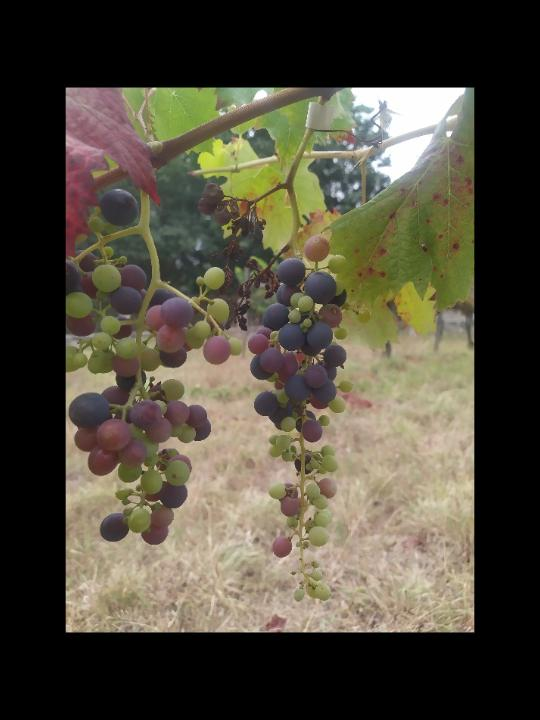grape: (66, 187, 244, 548), (249, 236, 369, 602), (197, 183, 279, 334)
